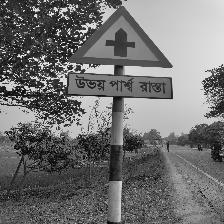Crossroad: (63, 4, 180, 107)
